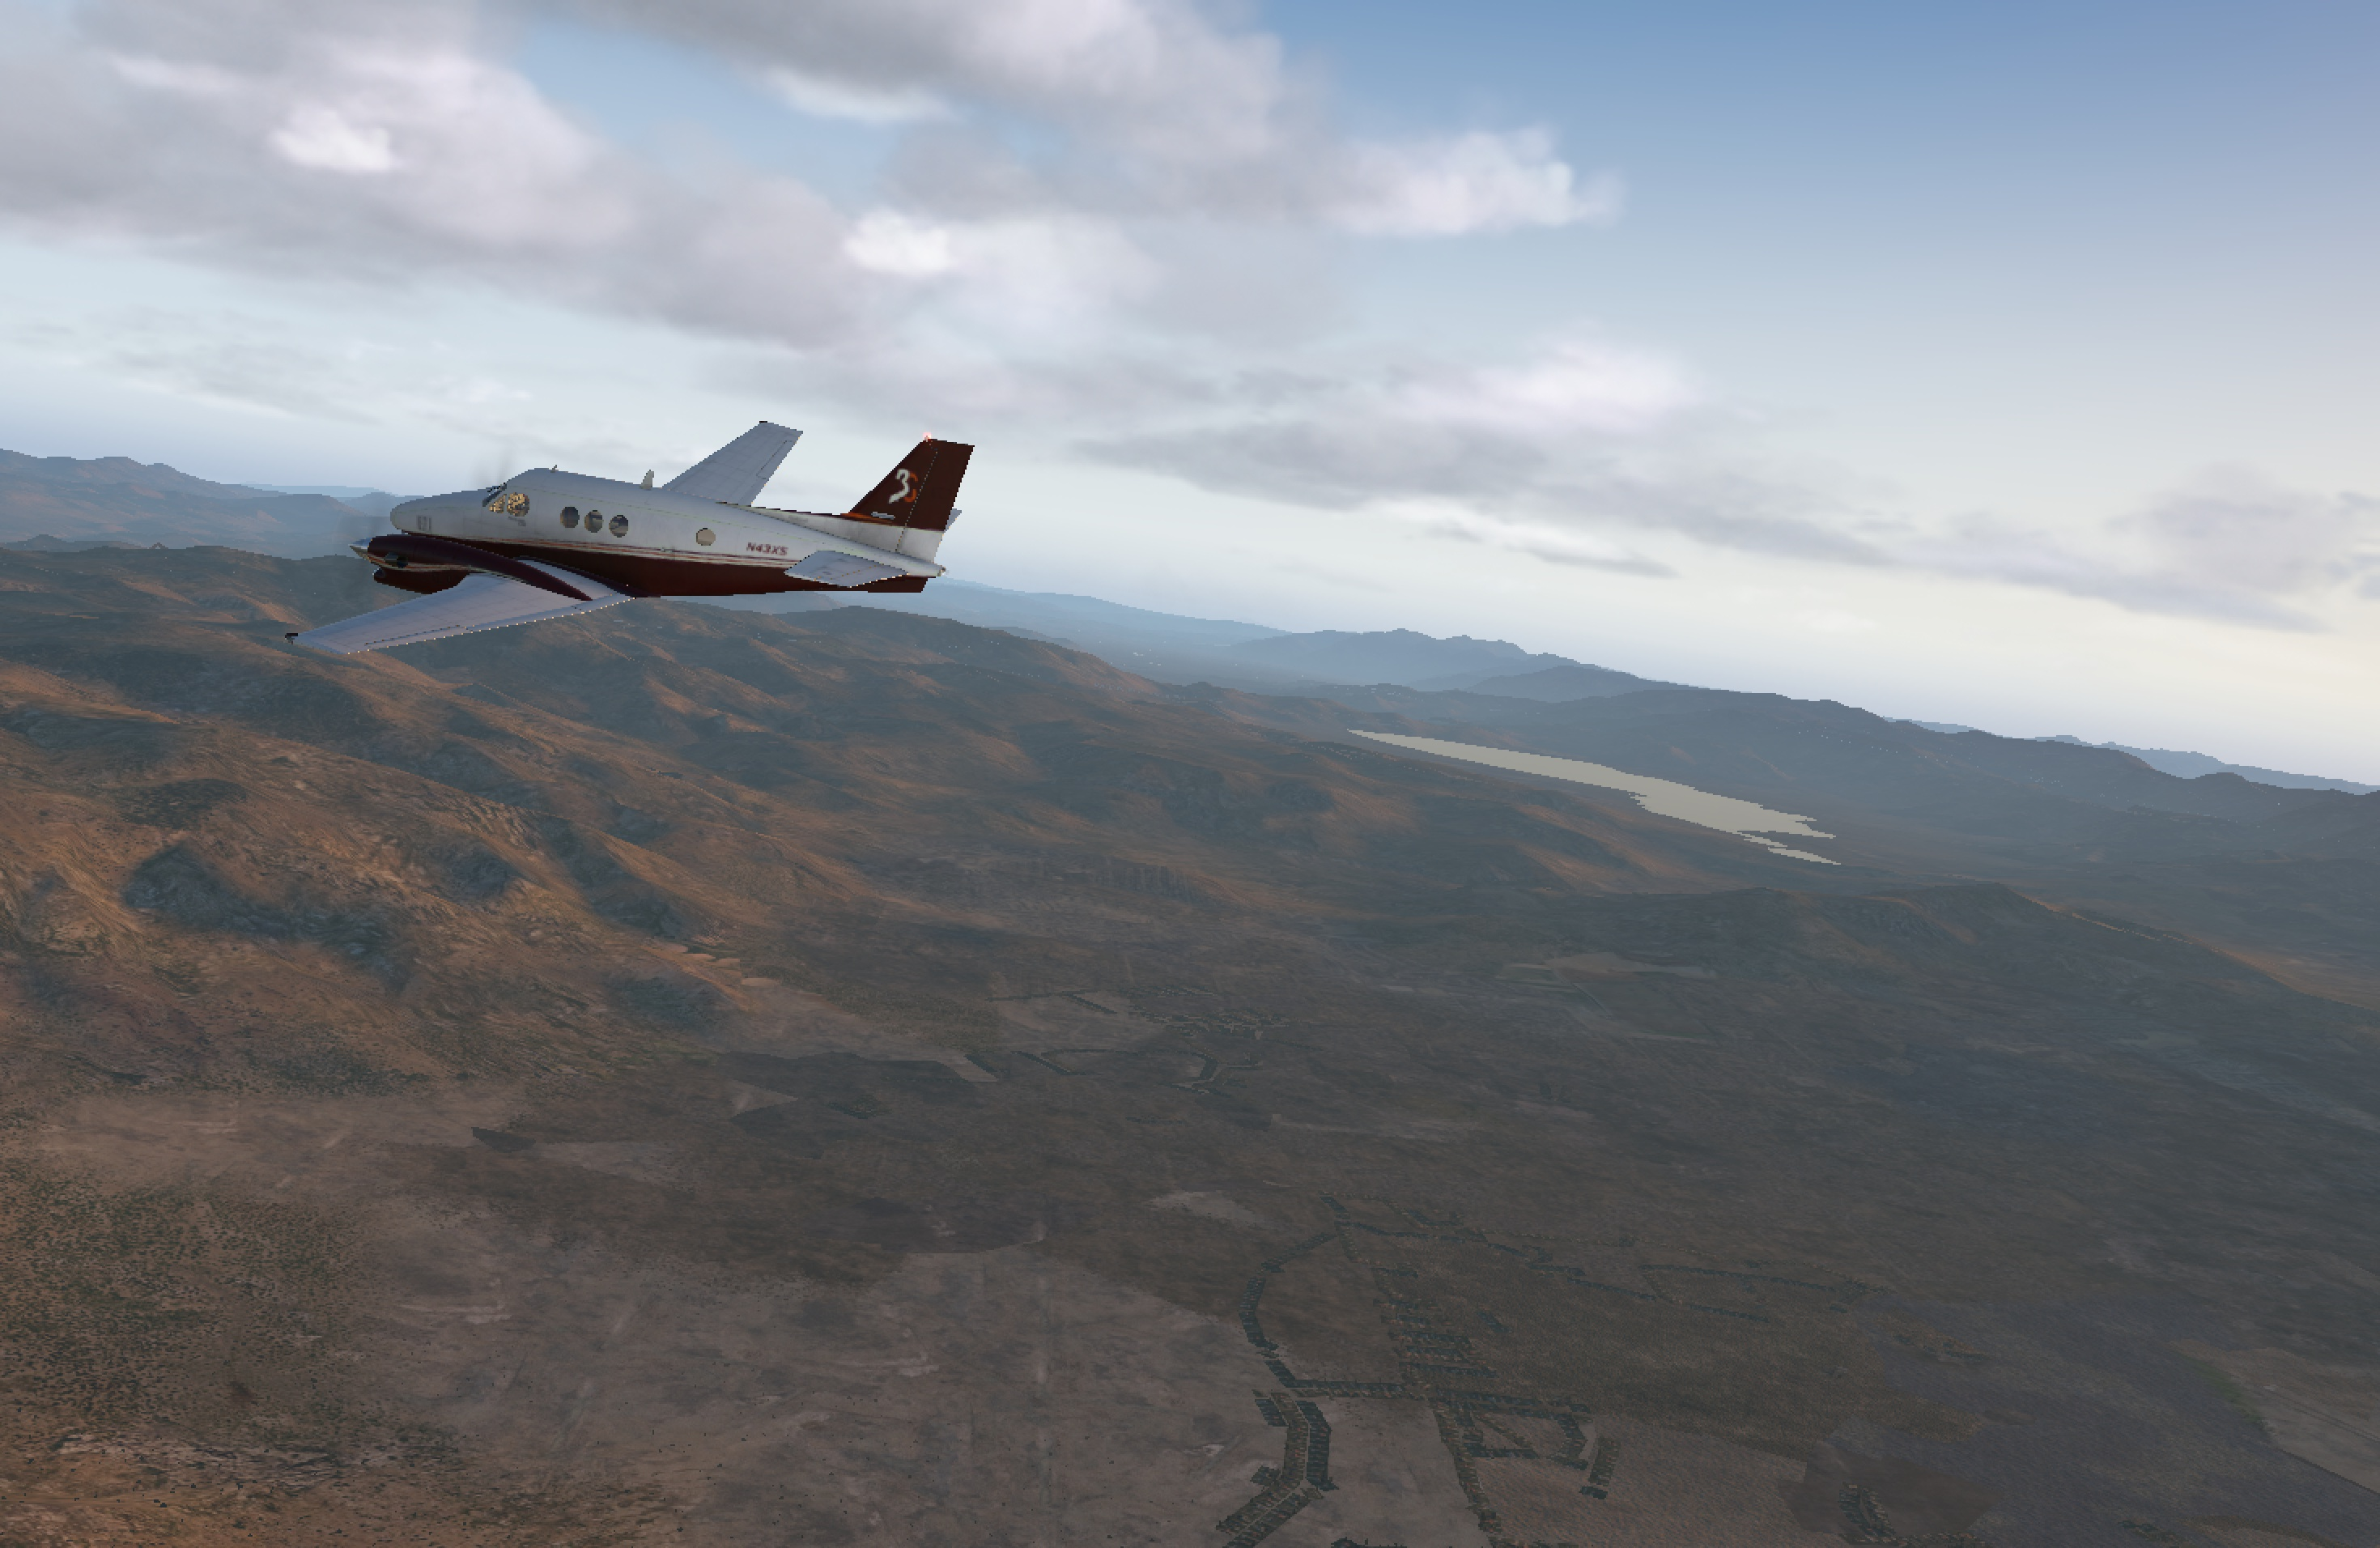aircraft: (141, 406, 999, 727)
